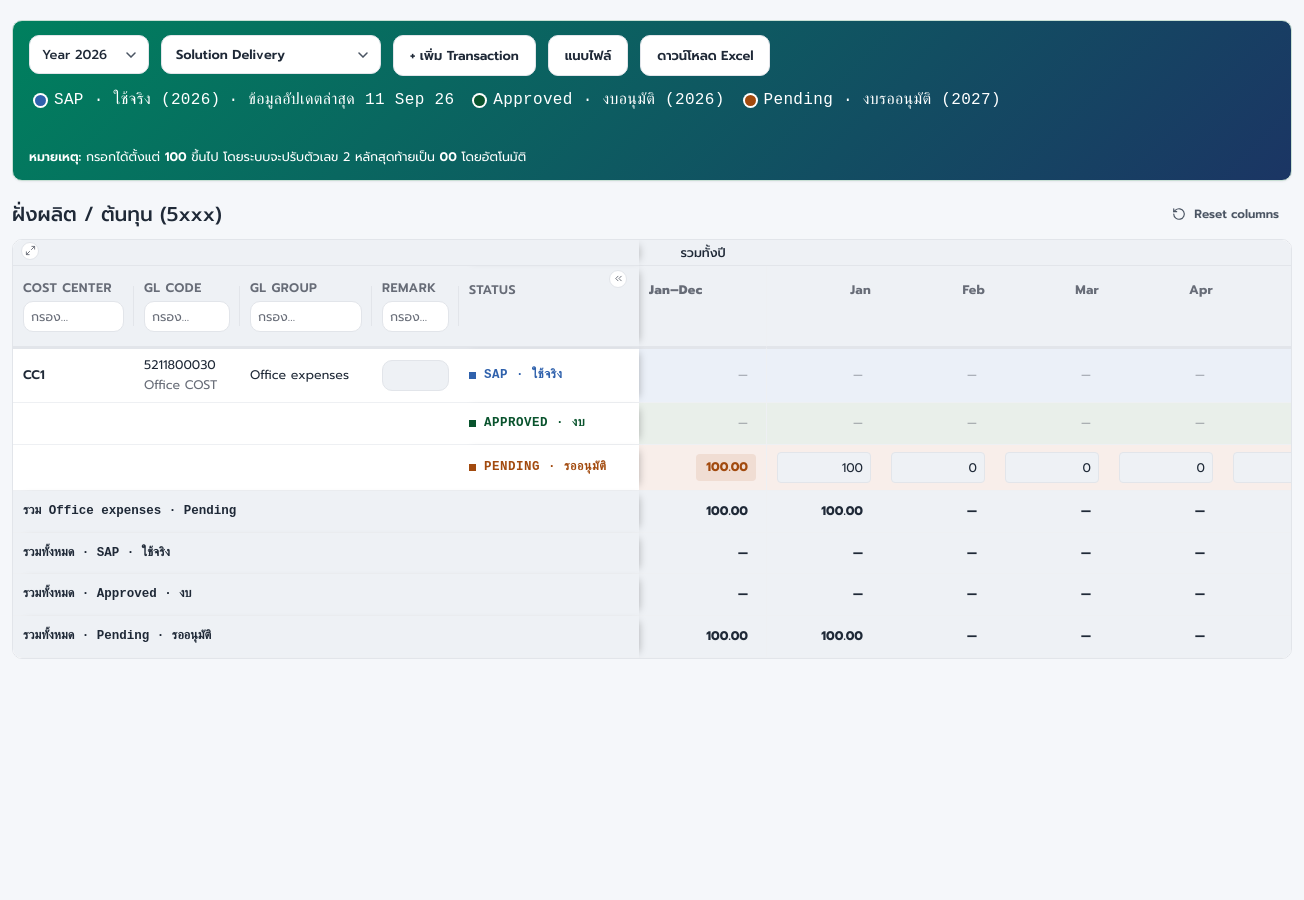
Test: BudgetGrid › a save rejected as department-locked (403) shows the Thai reason and reverts the cell
Replace the text in the field with test id "pending-input-CC1-5211800030-m01" with "777" at (824, 467), box x1=777 y1=452 x2=871 y2=483
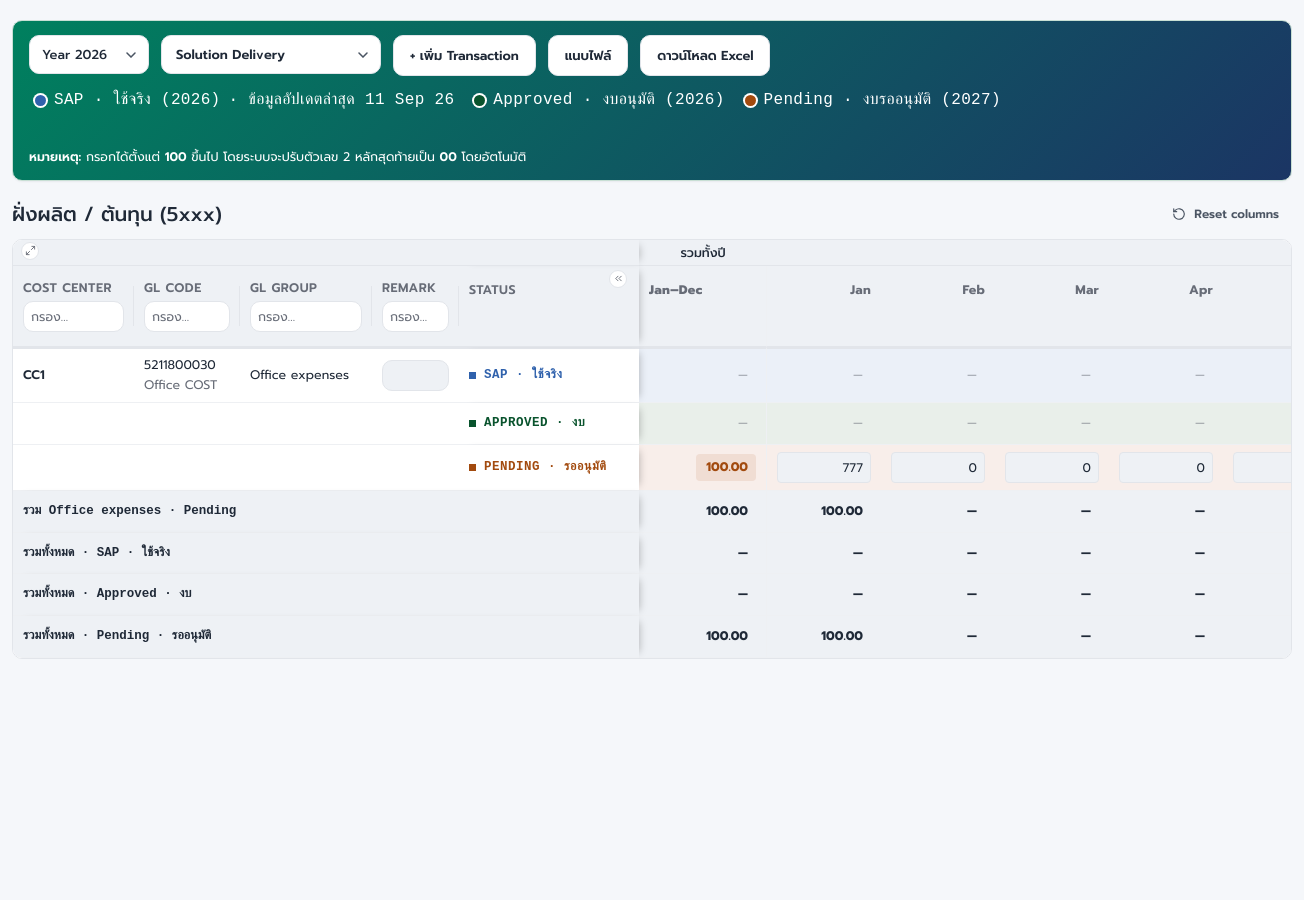
Leave the field with test id "pending-input-CC1-5211800030-m01", box x1=777 y1=452 x2=871 y2=483
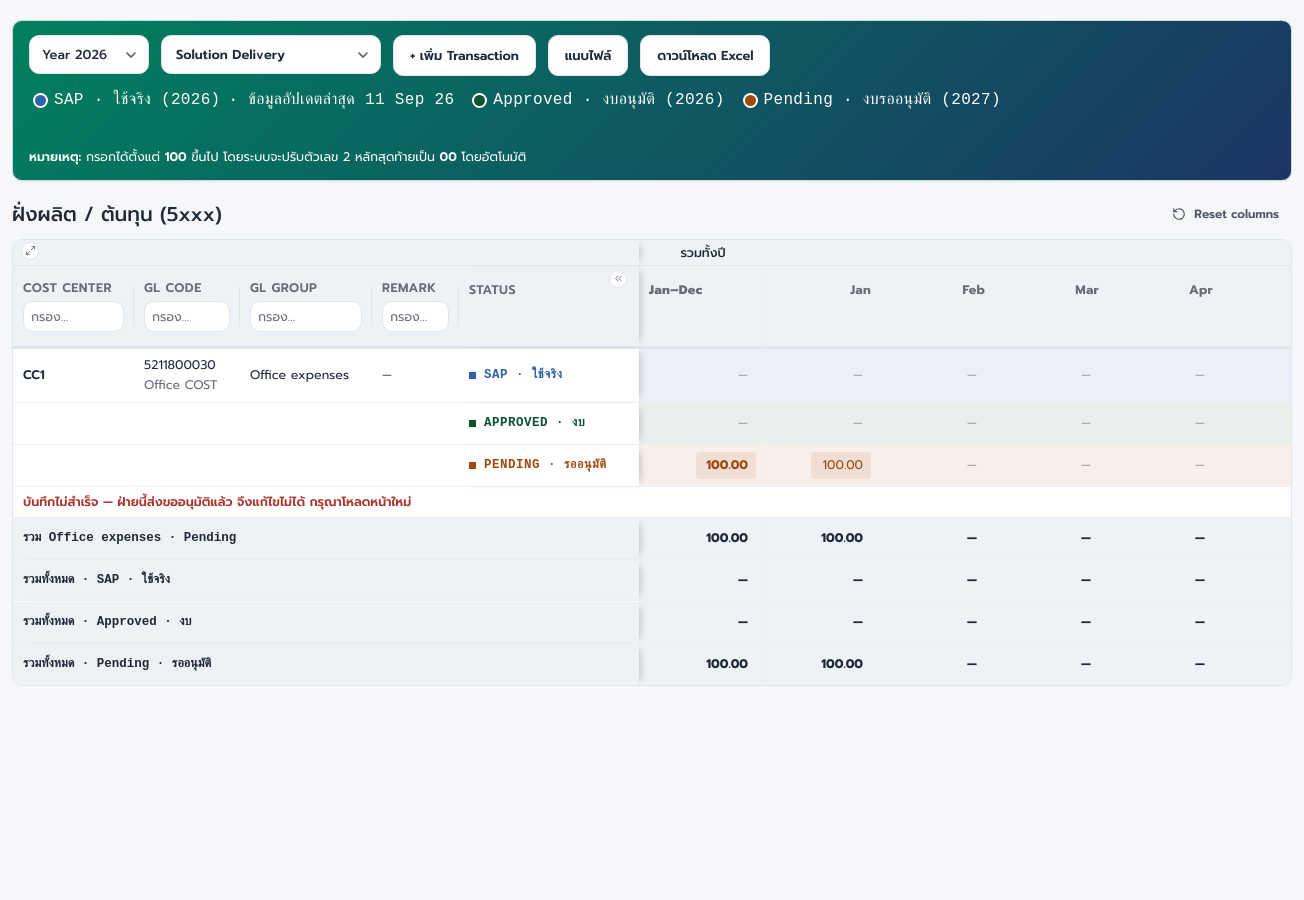
Expected: the text "ฝ่ายนี้ส่งขออนุมัติแล้ว" is shown, x1=23 y1=492 x2=411 y2=510
Expected: the cell with test id "pending-cell-CC1-5211800030-m01" shows "100", x1=822 y1=455 x2=863 y2=474
Expected: the field with test id "pending-input-CC1-5211800030-m01" is gone
